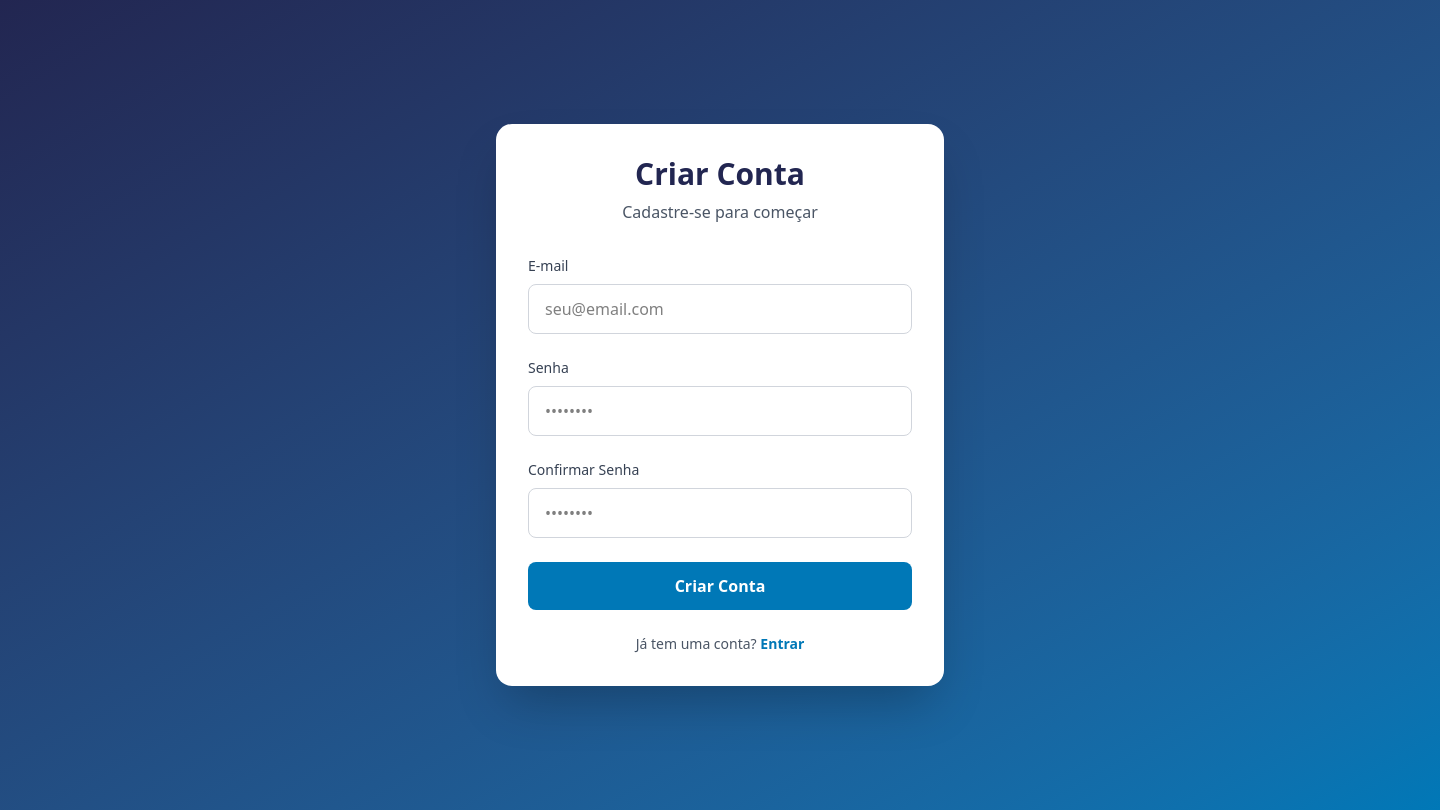
Register Page › validates password match
The width and height of the screenshot is (1440, 810).
Step 1. Type "test@test.com" into the field labelled "E-mail" → (720, 309), box [528,284,912,334]
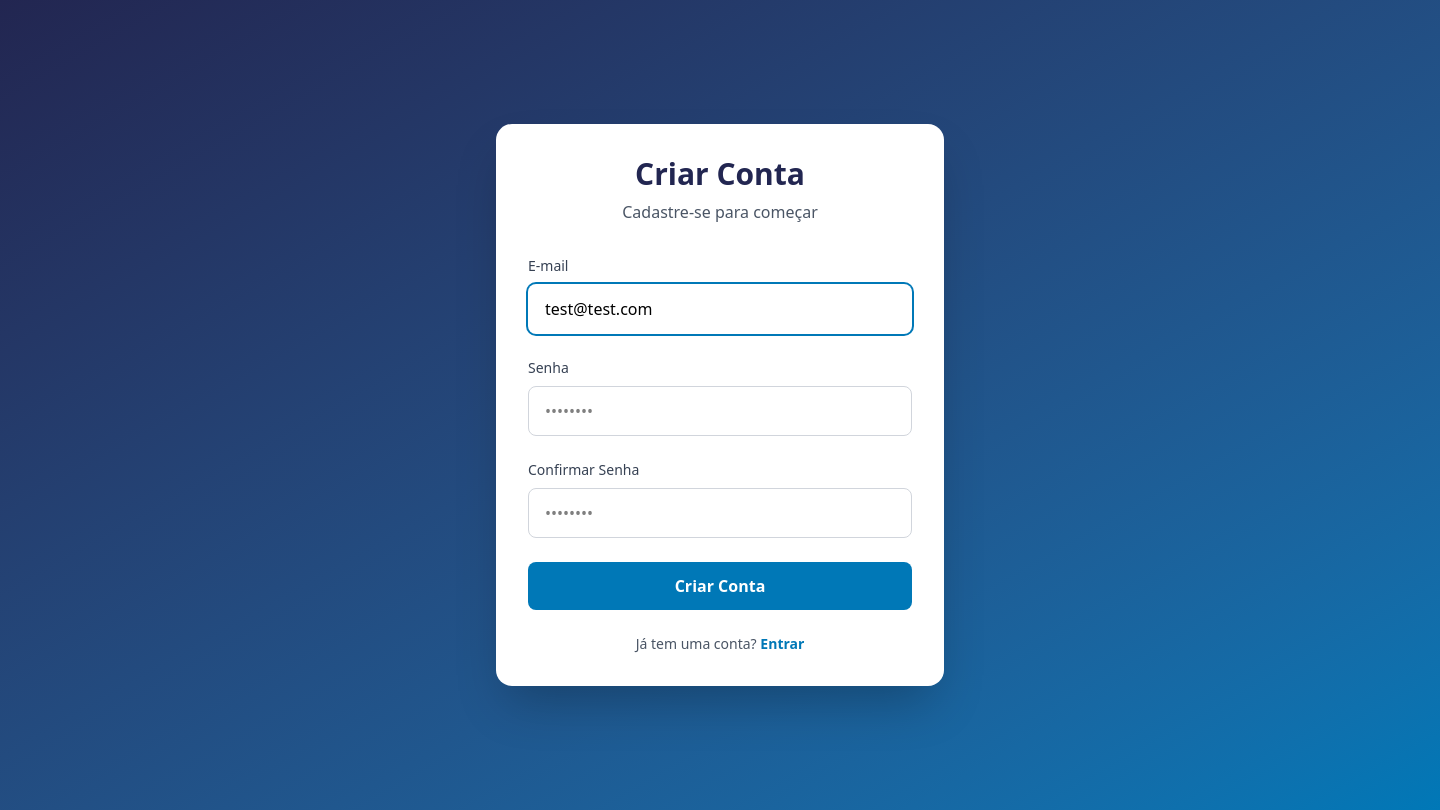
Step 2. Type "password123" into the password field with placeholder "••••••••" → (720, 411), box [528,386,912,436]
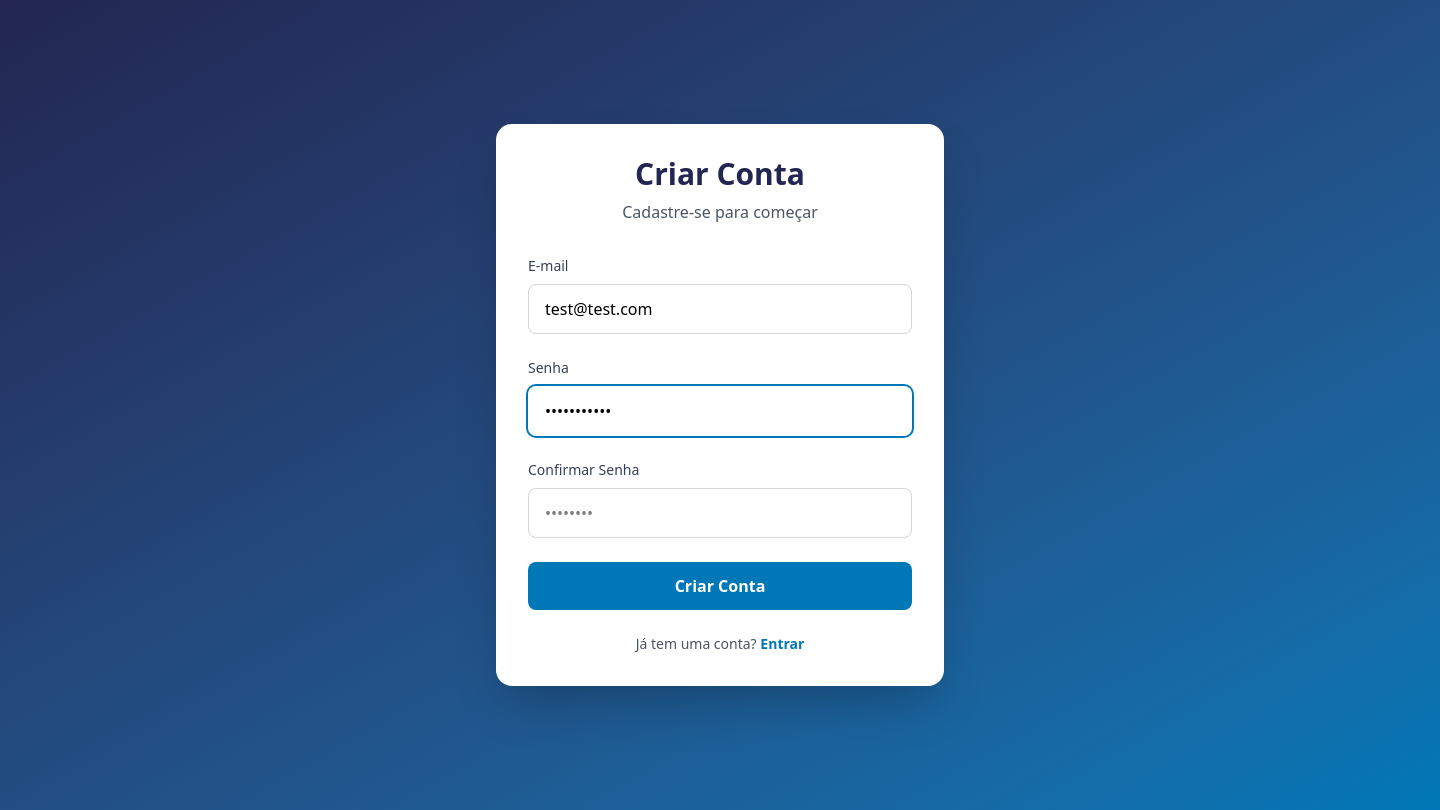
Step 3. Type "different" into the password field with placeholder "••••••••" → (720, 513), box [528,488,912,538]
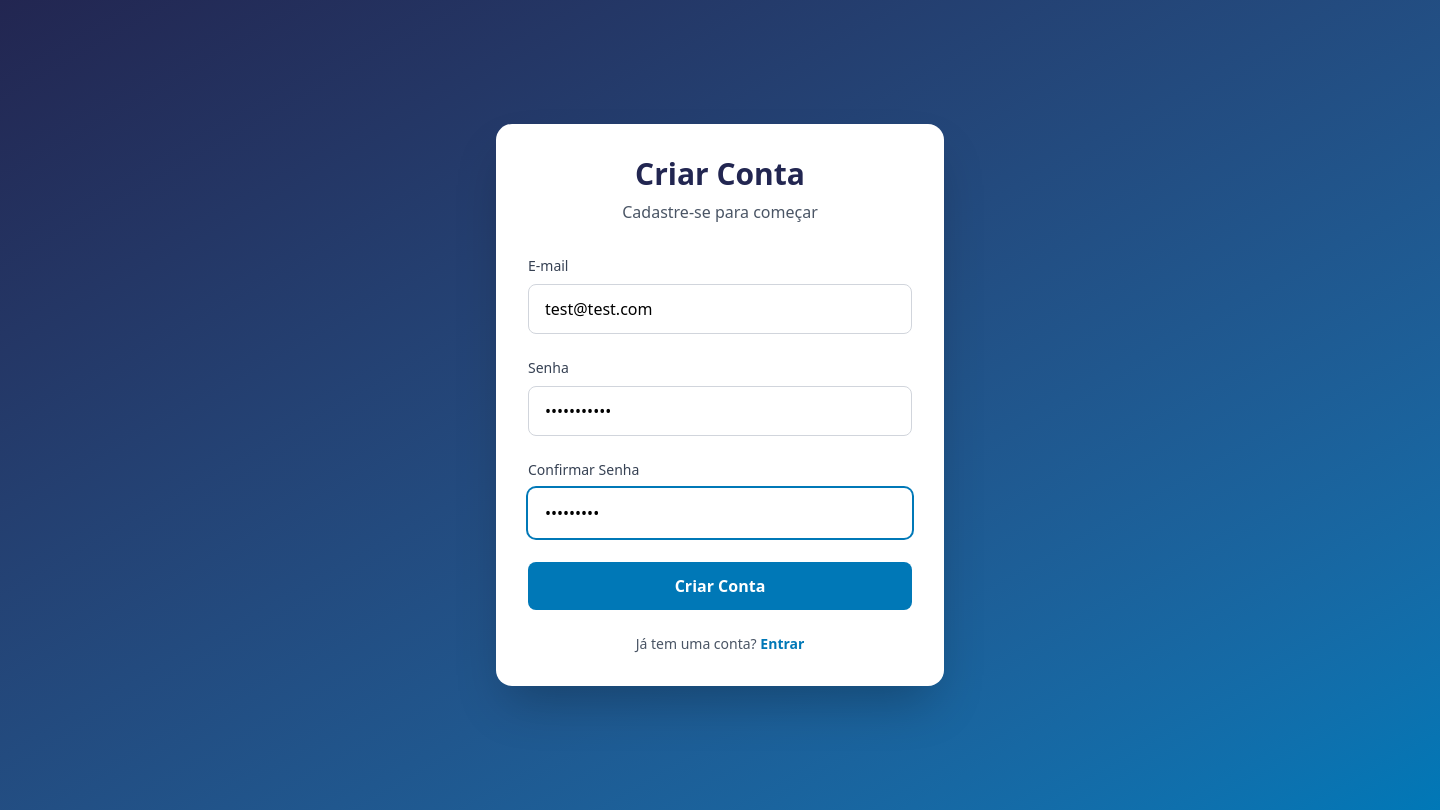
Step 4. Click the button "Criar Conta" → (720, 586), box [528,562,912,610]
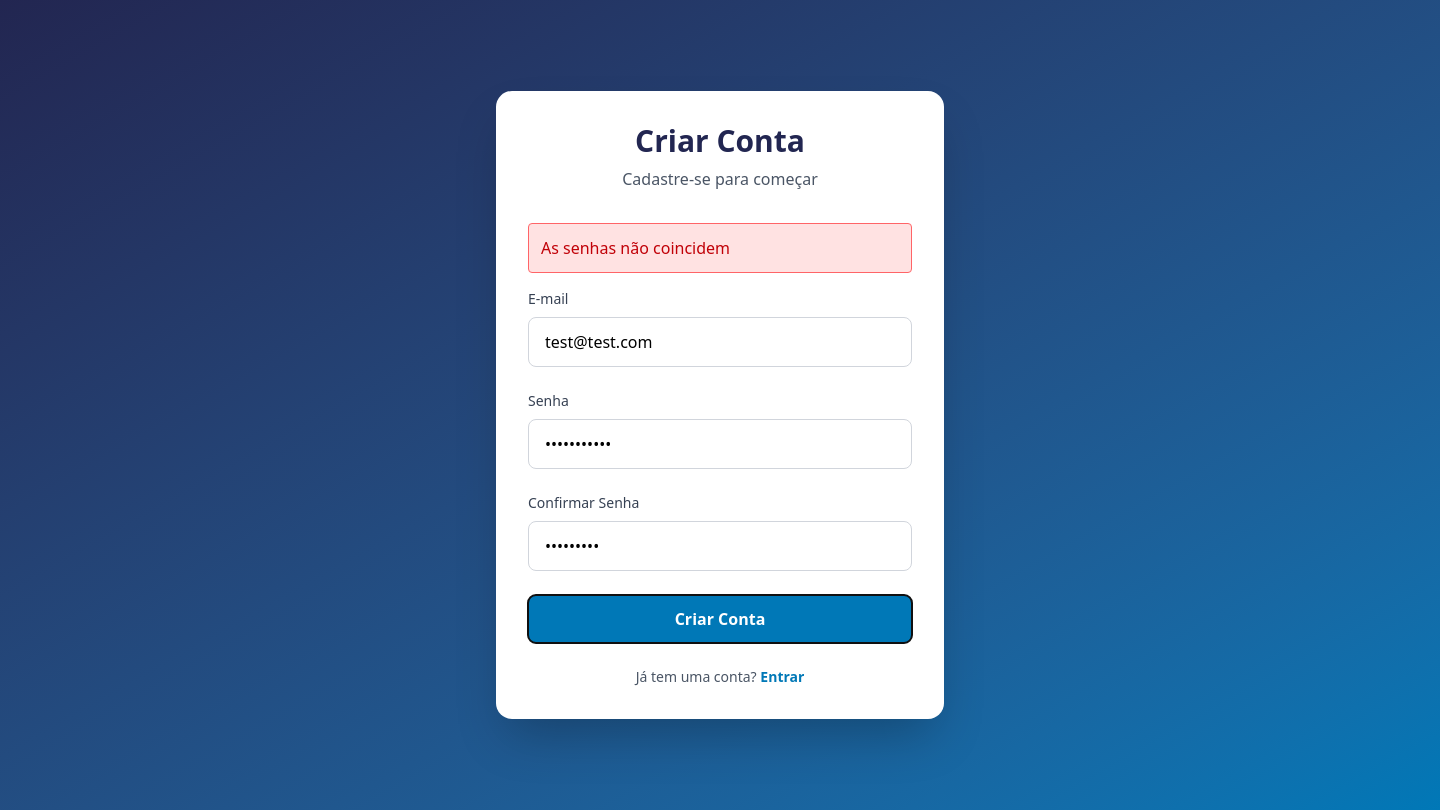
Now the text "As senhas não coincidem" is shown, box [528,223,912,273]
